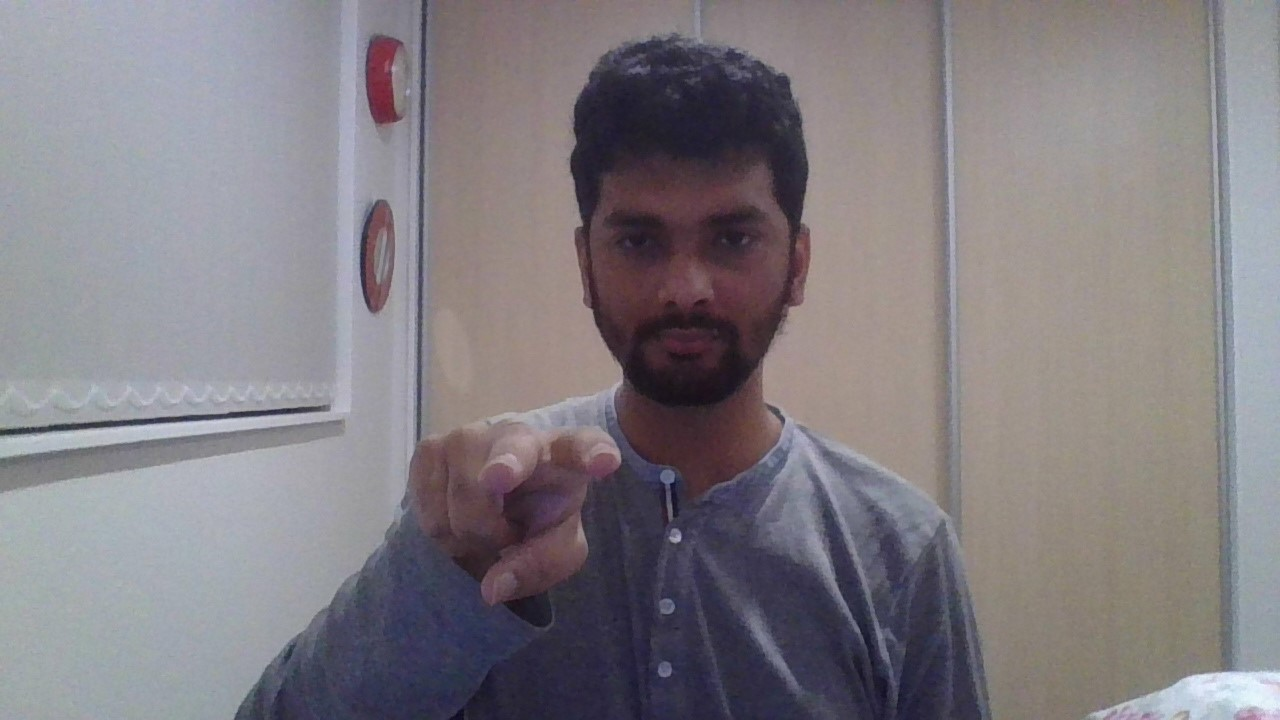look_around: (409, 418, 620, 606)
